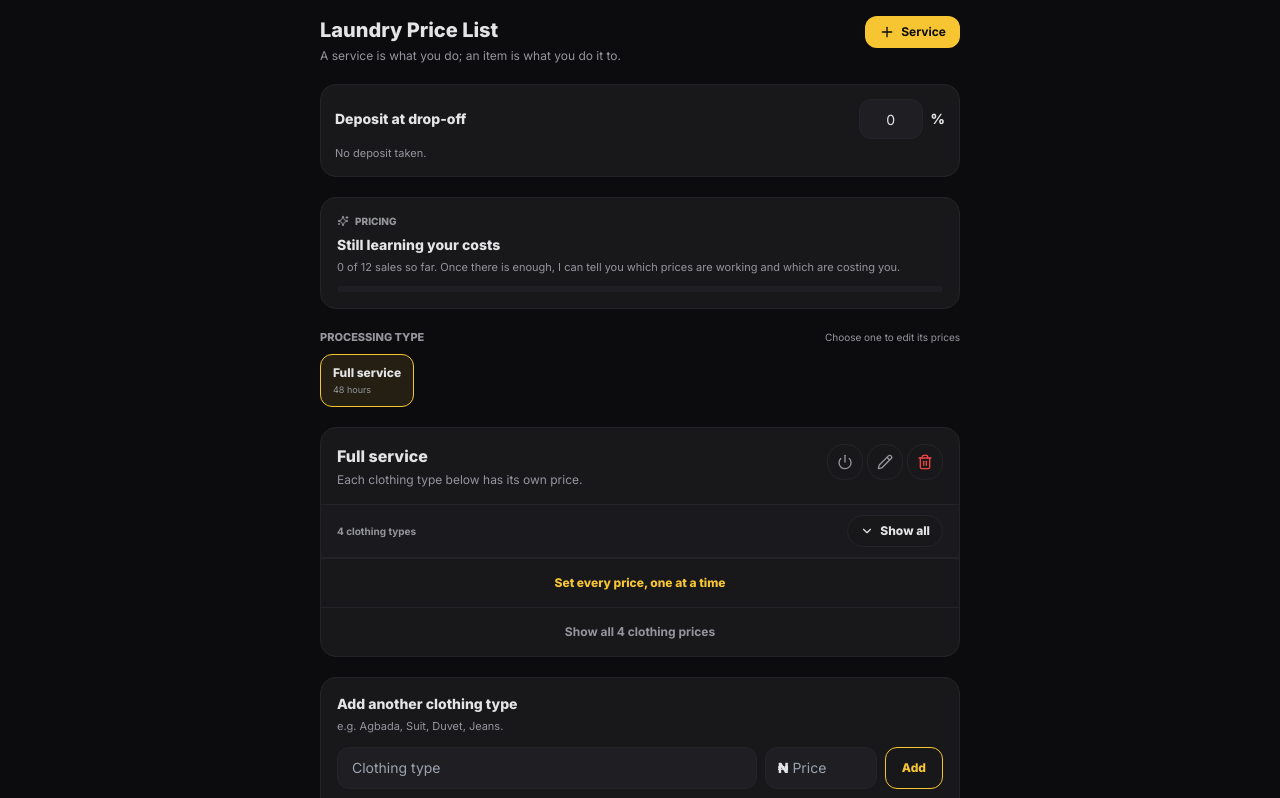
Test: a new per-item service with a typed price › "No" goes through each item, starting from ₦500
Click the button "Service".
click(913, 32)  # box [865,16,960,48]
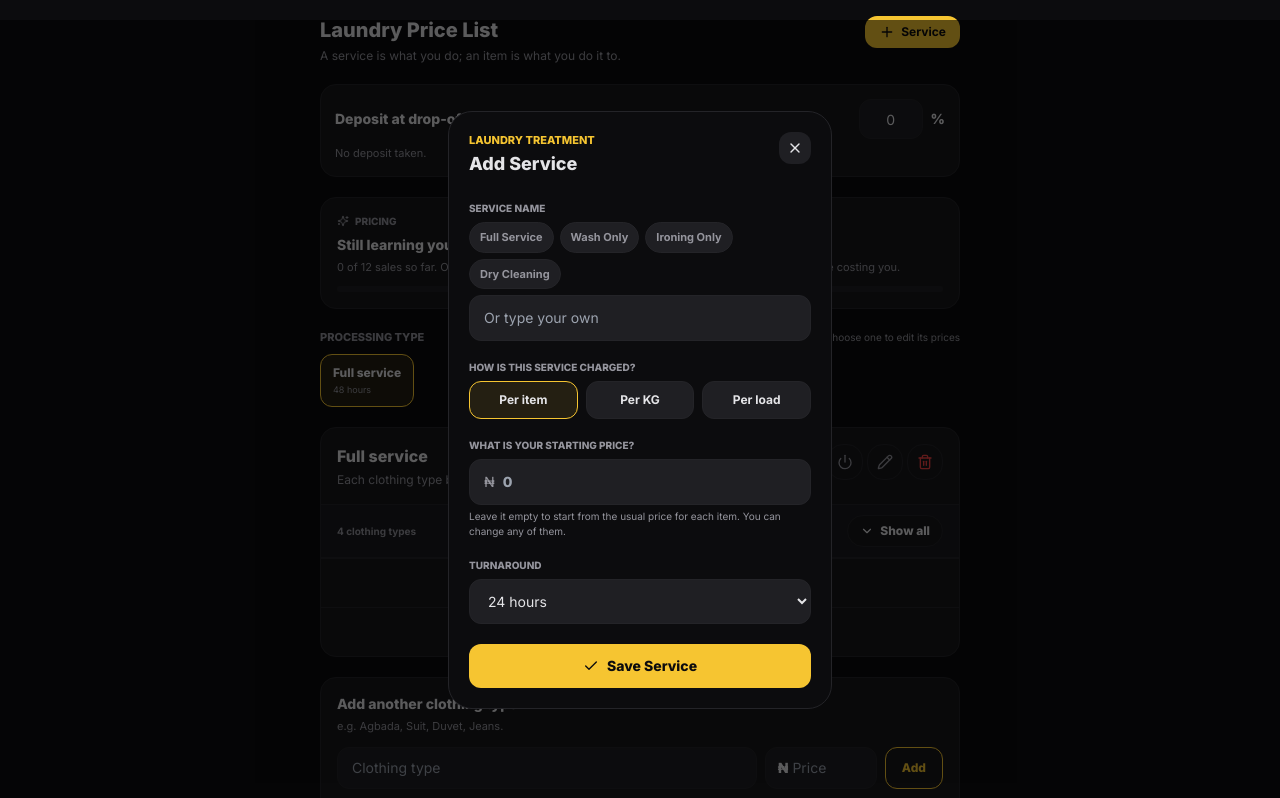
Type "Steam Press" into the field with placeholder "Or type your own".
click(640, 318); type("Steam Press")  # box [469,295,811,341]
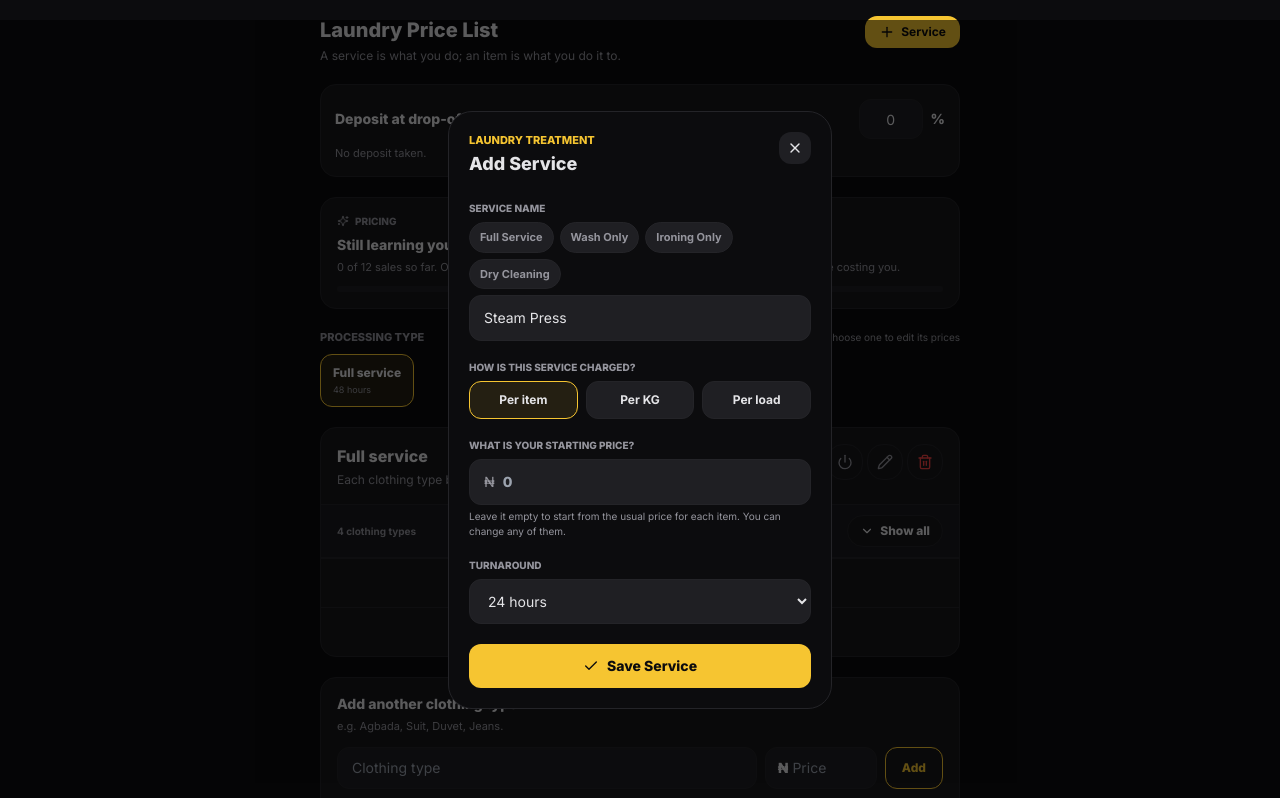
Type "500" into the field with placeholder "0".
click(649, 482); type("500")  # box [503,472,796,492]
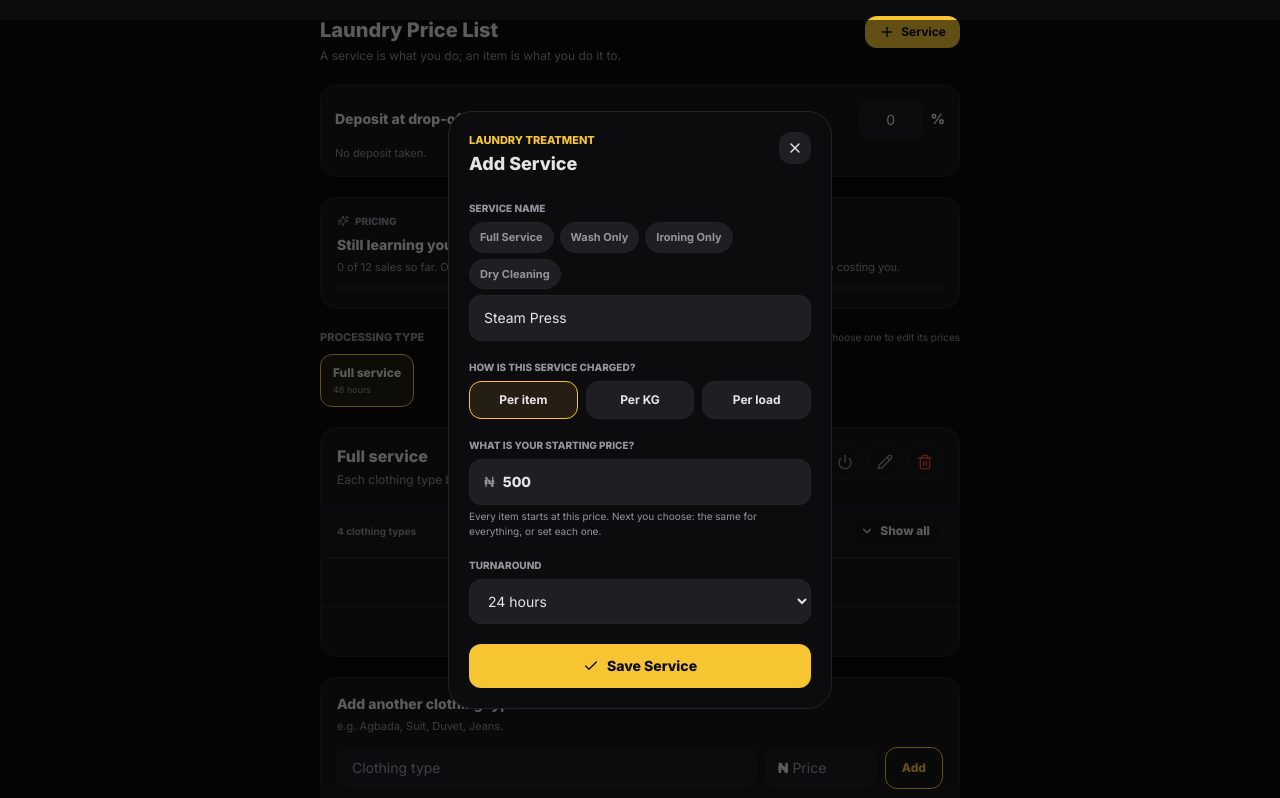
Click the button "Save Service".
click(640, 666)  # box [469,644,811,688]
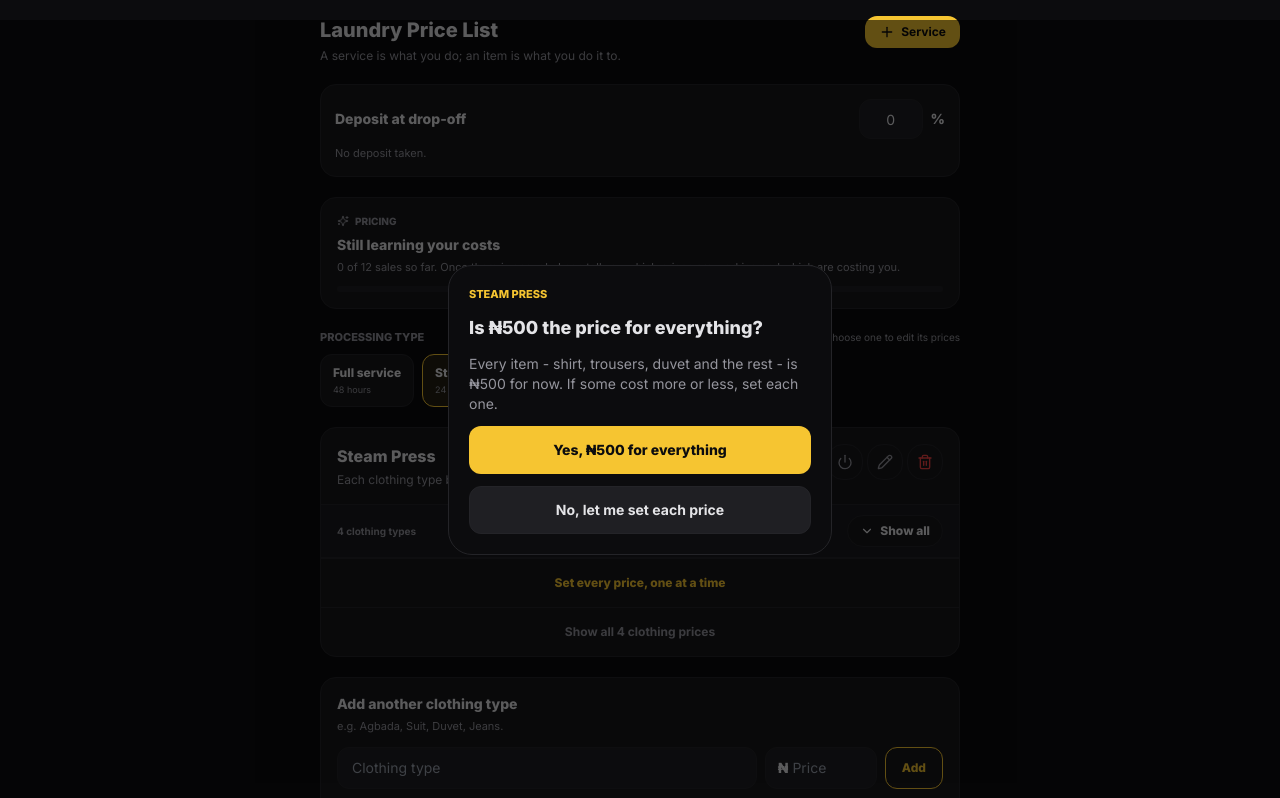
Click the button "No, let me set each price".
click(640, 510)  # box [469,486,811,534]
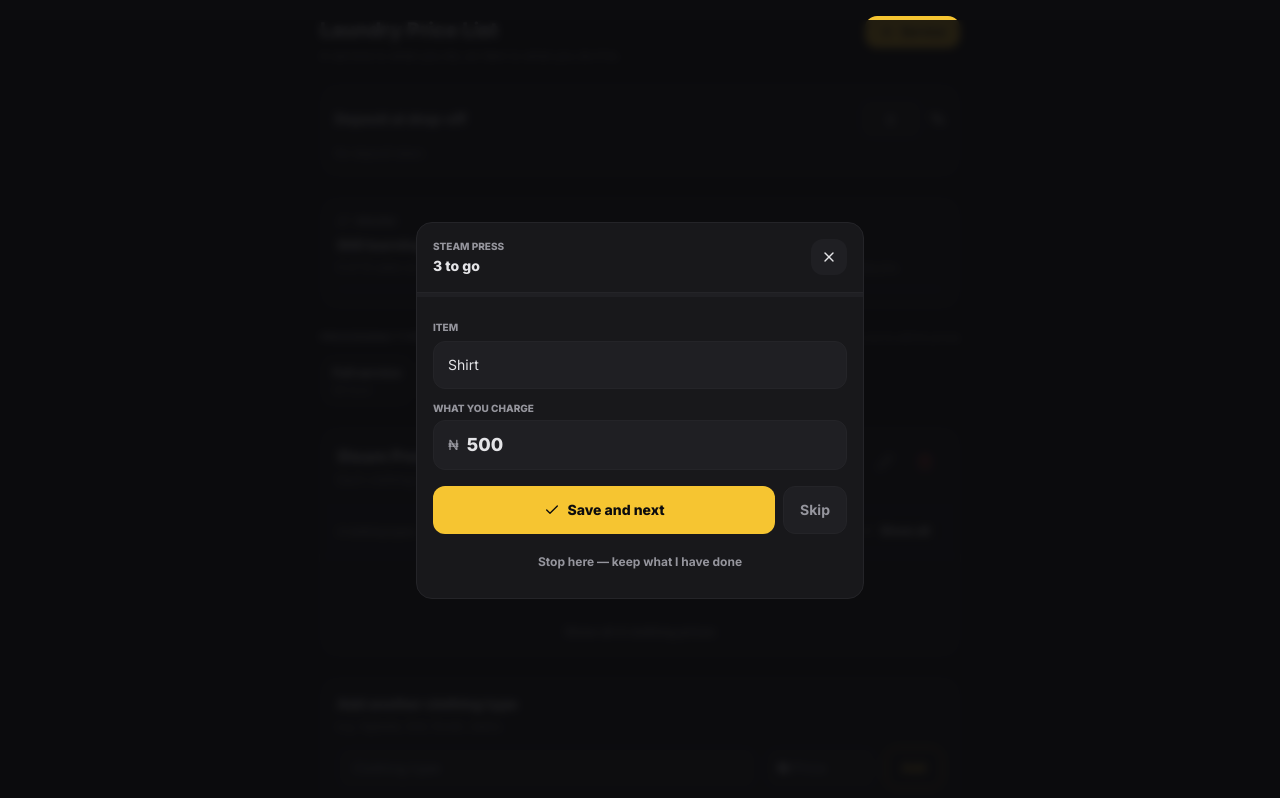
Check: the text "Steam Press" is shown, box [433,238,504,254]
Check: the heading "price for everything?" is gone
Check: the 2nd field showing "500" is shown, box [467,420,832,468]
